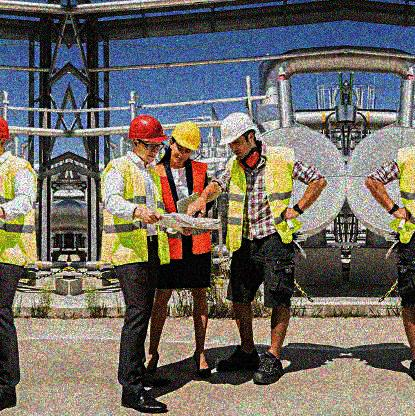helmet: (127, 113, 171, 163), (218, 112, 258, 161), (171, 120, 202, 164), (1, 114, 12, 155)
